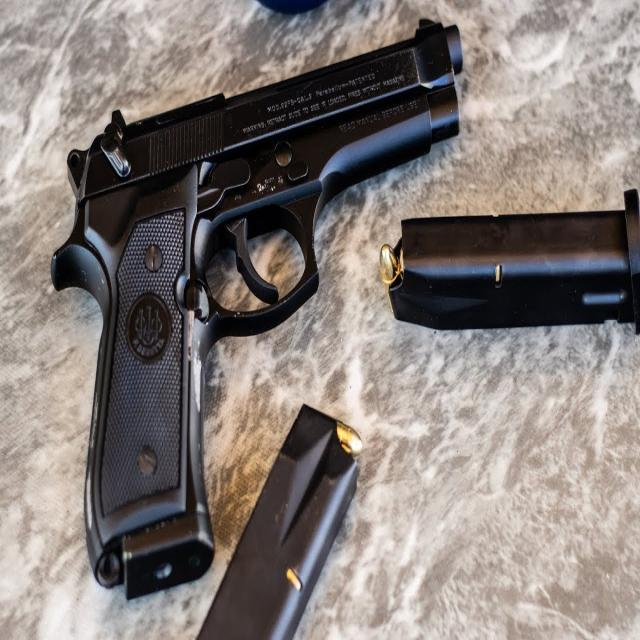Gun: (31, 22, 537, 575)
